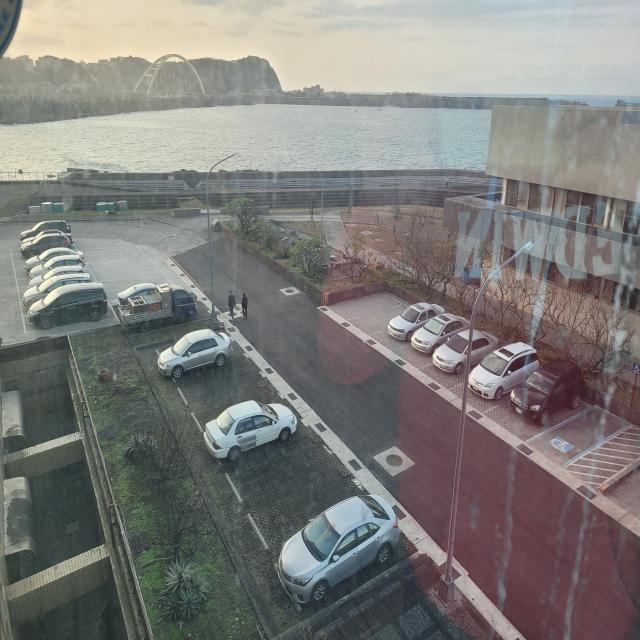car: (277, 491, 404, 606), (202, 397, 299, 463), (510, 357, 592, 428), (466, 341, 542, 401), (155, 326, 237, 380), (25, 280, 110, 332), (118, 282, 199, 330), (430, 326, 504, 378), (20, 275, 97, 312), (411, 312, 474, 354), (386, 300, 447, 340), (28, 264, 94, 289), (23, 250, 88, 273), (17, 217, 72, 243), (17, 232, 74, 256)
